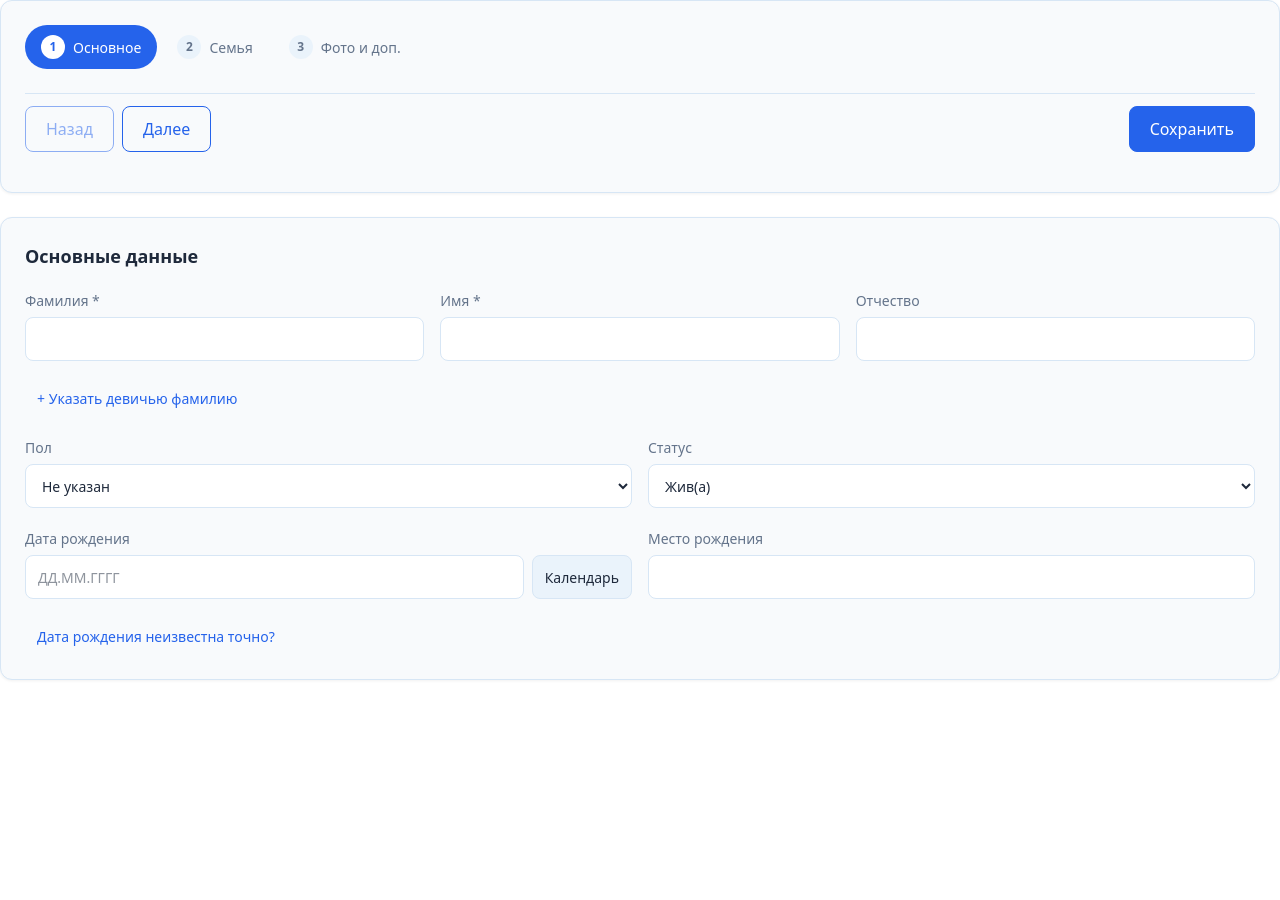
Test: PersonForm - a new burial place is saved together with the person › leaves the person unsaved when the place cannot be created
Type "Романова" into the field labelled "Фамилия *".
click(225, 339); type("Романова")  # box [25, 317, 424, 361]
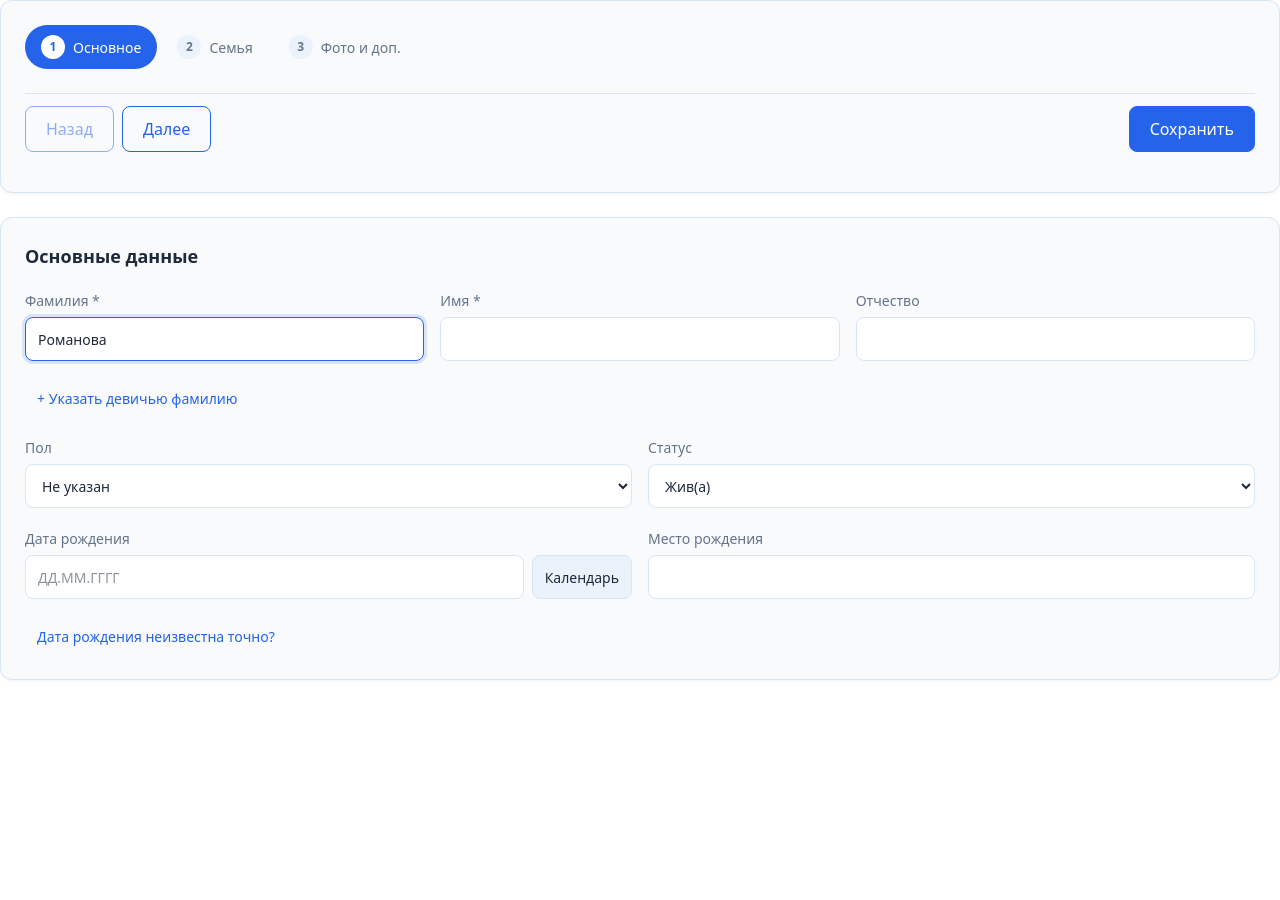
Type "Вадим" into the field labelled "Имя *".
click(640, 339); type("Вадим")  # box [440, 317, 840, 361]
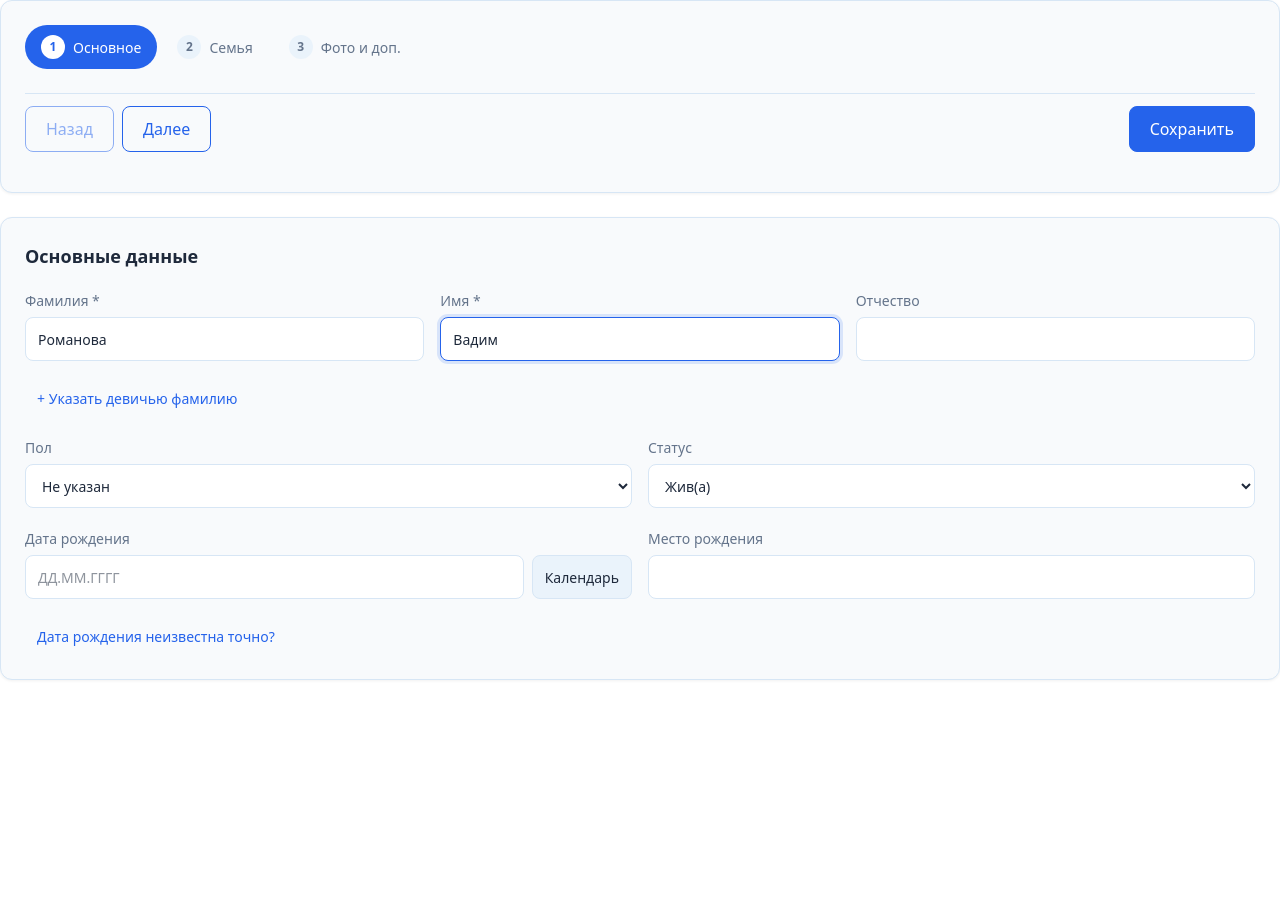
Select "Умер(ла)" in the dropdown labelled "Статус" at (952,486), box [648, 464, 1255, 508]
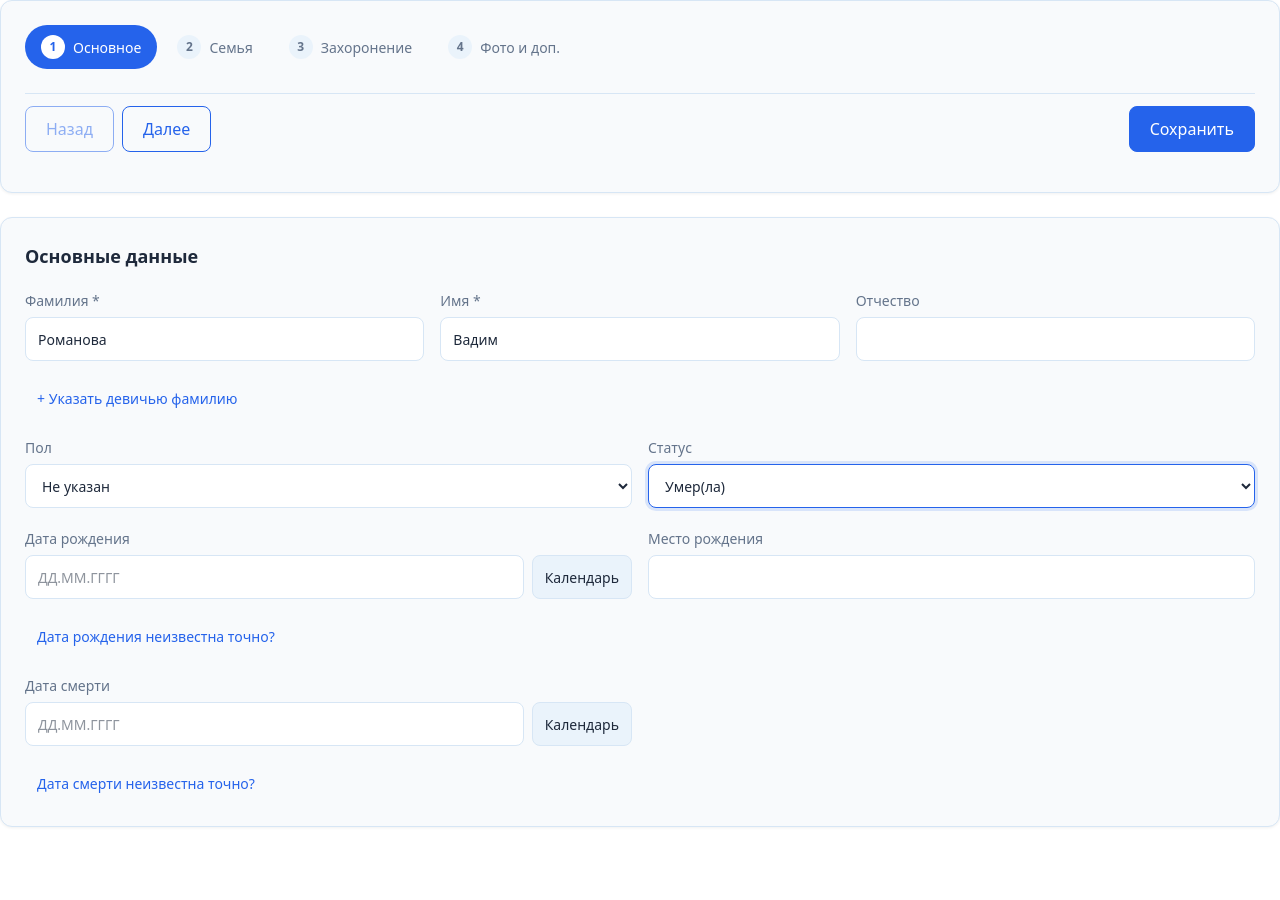
Click the button "3 Захоронение".
click(350, 47)  # box [273, 25, 428, 69]
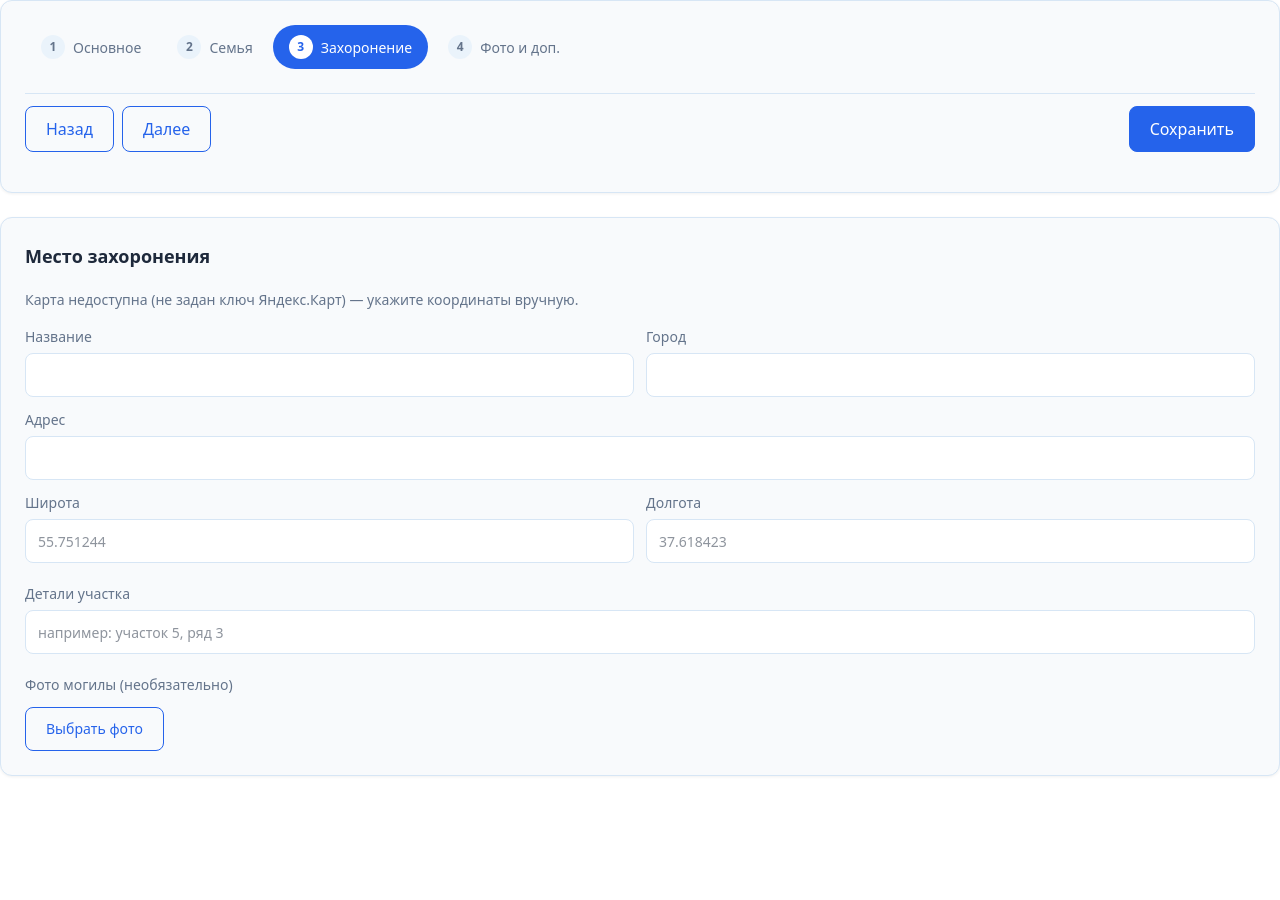
Type "Новое кладбище" into the field labelled "Название".
click(330, 375); type("Новое кладбище")  # box [25, 353, 634, 397]
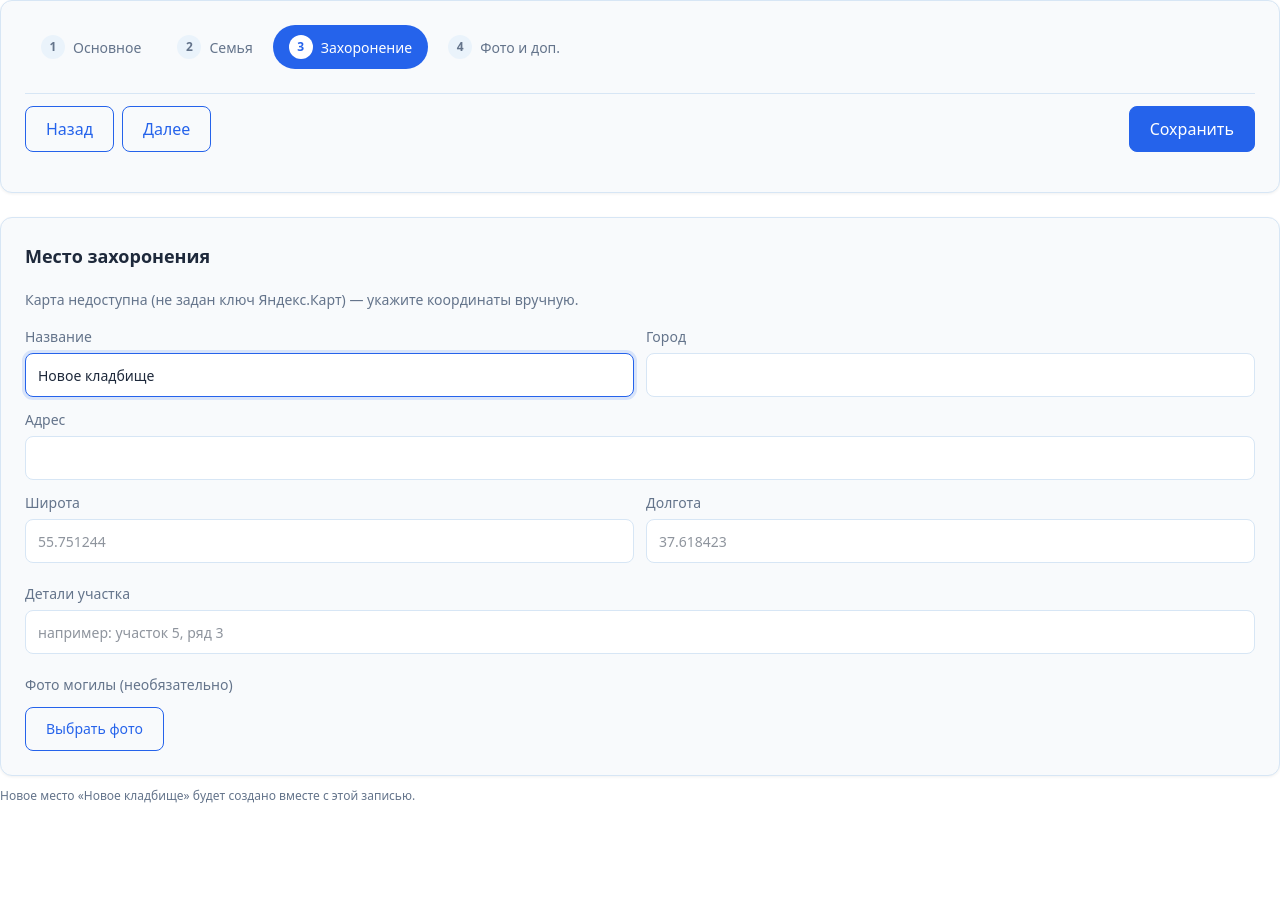
Click the button "Сохранить".
click(1192, 129)  # box [1129, 106, 1255, 152]
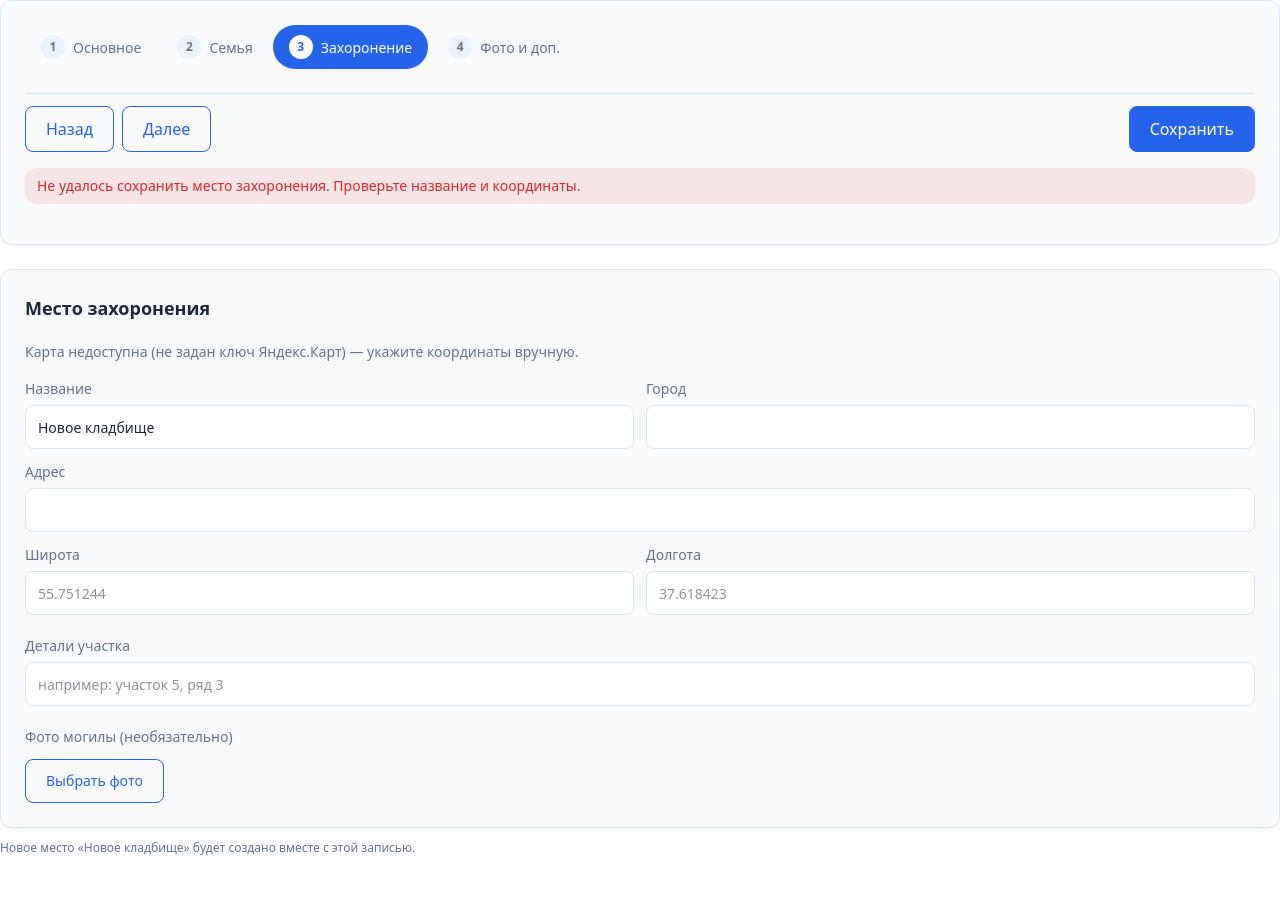
Now the text "Не удалось сохранить место захоронения" is shown, box [37, 176, 580, 195]
